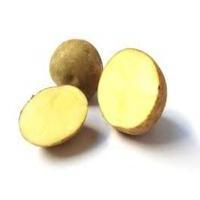biodegradable: (96, 47, 169, 136), (18, 83, 89, 147), (48, 38, 103, 98)
